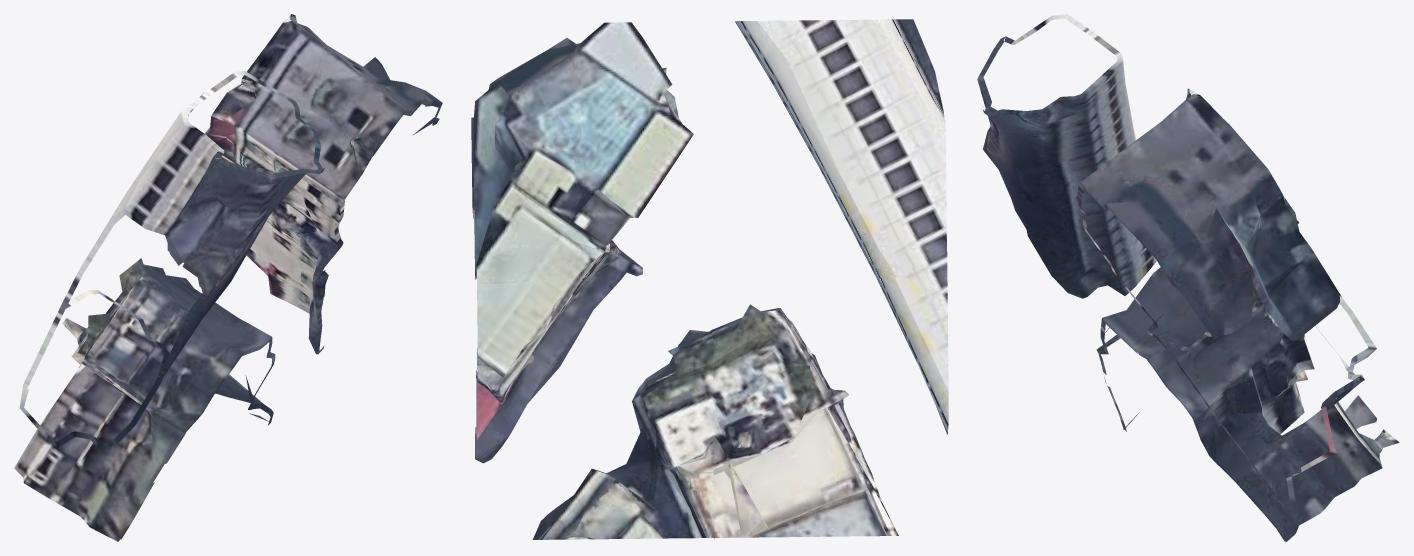
The picture shows the model from 3 angles, left to right: view 1: azimuth 30°, elevation 25°; view 2: azimuth 150°, elevation 25°; view 3: azimuth 270°, elevation 25°; orthographic projection. The views are drawn at different scales.
Bounding box in the file's own units: 39.85 × 39.83 × 34.92.
Materials: 2 (2 with a texture image).
